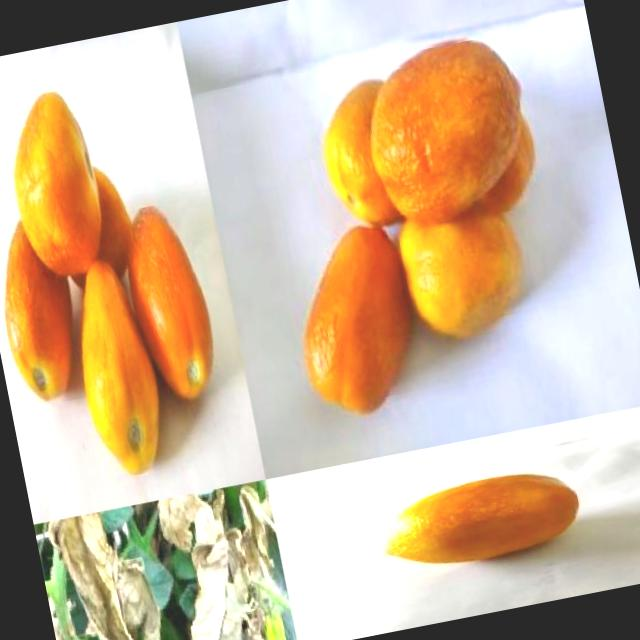Rotten_Tomato: (351, 21, 551, 237), (276, 213, 436, 429), (58, 242, 180, 493), (106, 190, 232, 422), (366, 456, 591, 584), (0, 74, 119, 290), (388, 182, 537, 352), (307, 68, 425, 244), (0, 201, 93, 417)
